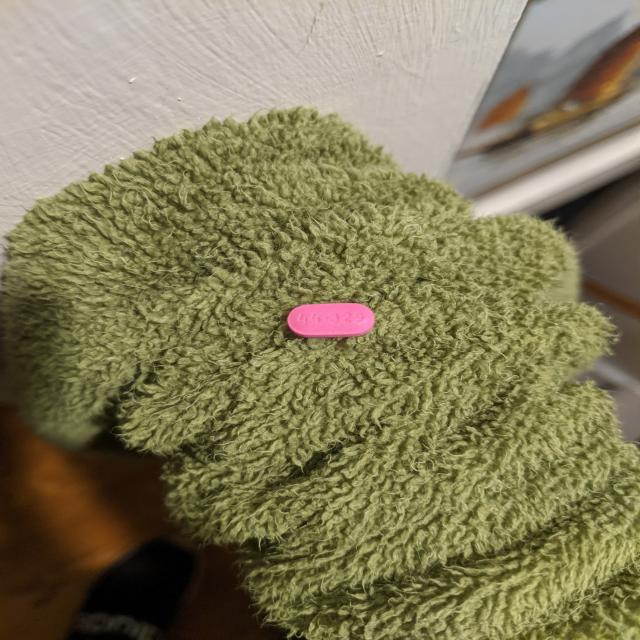non-organic waste: (286, 302, 376, 338)
